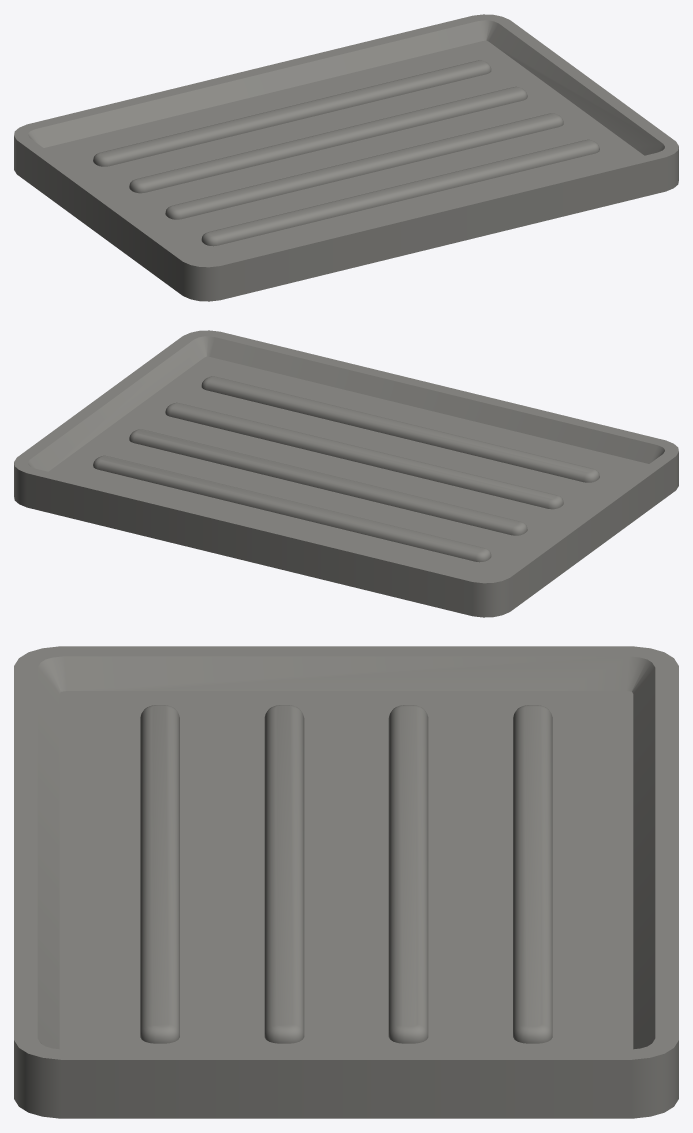
Rendered from KitchenDryRack.FBX.
3 renders of one model, top to bottom at view 1: azimuth 30°, elevation 25°; view 2: azimuth 150°, elevation 25°; view 3: azimuth 270°, elevation 25°, orthographic. The views are drawn at different scales.
Parts seen in each view (by area): view 1: Box001; view 2: Box001; view 3: Box001.
Boxes of the visible parts, left/top/right/bottom form: Box001: left=14, top=14, right=678, bottom=301; Box001: left=14, top=330, right=678, bottom=617; Box001: left=14, top=646, right=678, bottom=1118.
Bounding box in the file's own units: 73.4 × 4.88 × 49.87.
Materials: 1 (1 with a texture image).
